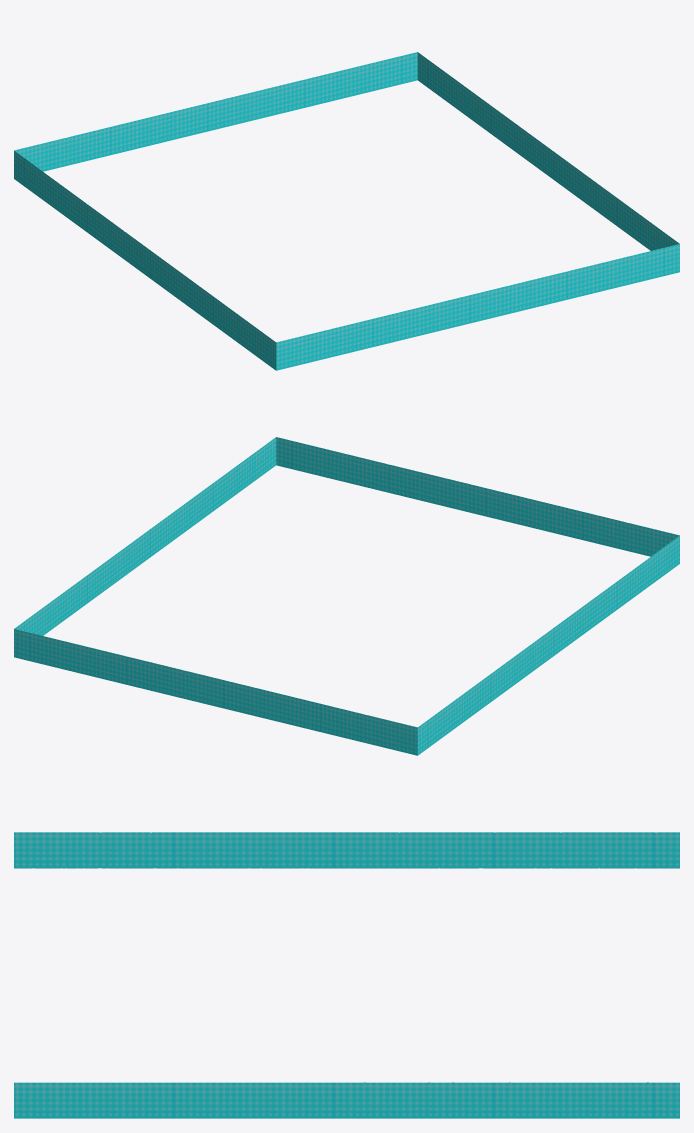
The model's file is floorGlow.fbx.
3 views of the same model, one above another, from view 1: azimuth 30°, elevation 25°; view 2: azimuth 150°, elevation 25°; view 3: azimuth 270°, elevation 25° (orthographic). The views are drawn at different scales.
Parts seen in each view (by area): view 1: pCube2, pCube3; view 2: pCube2, pCube3; view 3: pCube2, pCube3.
Part boxes in pixels (<box>): pCube2: <box>14,52,679,370</box>; pCube3: <box>14,54,679,369</box>; pCube2: <box>14,437,679,755</box>; pCube3: <box>14,438,679,755</box>; pCube2: <box>14,832,679,1118</box>; pCube3: <box>14,832,679,1118</box>.
Bounding box in the file's own units: 808 × 127 × 909.
1 material, 1 textured.
